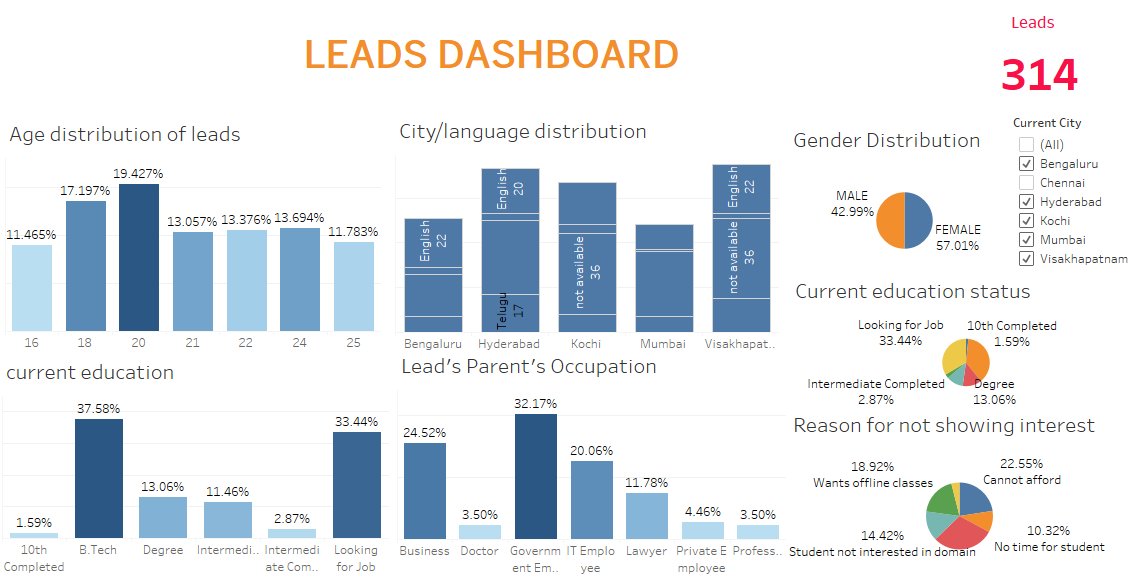

Layout of this report page (visuals, bound fields, positions):
{"tool":"tableau","page":{"name":"Dashboard 1","canvas":[1000,1000],"units":"permille","ordinal":0},"visuals":[{"type":"text","box":[7.1,13.5,844.2,177.4]},{"type":"worksheet","title":"Sheet 12","mark":"Automatic","box":[851.3,13.5,141.6,177.4]},{"type":"dashboard-object","box":[0,113.2,21.2,40.5]},{"type":"worksheet","title":"City/language distribution","mark":"Automatic","rows":["lead_id"],"cols":["current_city"],"box":[345.1,197.6,332.7,405.4]},{"type":"filter","title":"current education","param":"[federated.1svppnc1jsyctr11yhxaa12vuxx0].[none:current_city:nk]","box":[880.5,201,116.8,265.2]},{"type":"worksheet","title":"Age distribution of leads","mark":"Automatic","rows":["lead_id"],"cols":["age"],"box":[8,202.7,325.7,400.3]},{"type":"worksheet","title":"Gender Distribution","mark":"Pie","box":[686.7,212.8,200,263.5]},{"type":"worksheet","title":"Current education status","mark":"Pie","box":[688.5,467.9,302.7,233.1]},{"type":"worksheet","title":"Lead's Parent's Occupation","mark":"Automatic","rows":["lead_id"],"cols":["parent_occupation"],"box":[346.9,594.6,337.2,391.9]},{"type":"worksheet","title":"current education","mark":"Automatic","cols":["current_education"],"box":[5.3,604.7,335.4,380.1]},{"type":"worksheet","title":"Reason for not showing interest","mark":"Pie","box":[686.7,694.3,295.6,299]}]}

Visuals, with their boxes on the dashboard's canvas, which has no fixed pixel size, in thousandths of its width and height (x1, y1, x2, y2). These are canvas units, not pixel positions in the 1145x583 screenshot, which may show the page scaled, cropped or inside an application window:
text: <box>7,14,851,191</box>
"Sheet 12" worksheet: <box>851,14,993,191</box>
dashboard-object: <box>0,113,21,154</box>
"City/language distribution" worksheet: <box>345,198,678,603</box>
"current education" filter: <box>880,201,997,466</box>
"Age distribution of leads" worksheet: <box>8,203,334,603</box>
"Gender Distribution" worksheet (Pie marks): <box>687,213,887,476</box>
"Current education status" worksheet (Pie marks): <box>688,468,991,701</box>
"Lead's Parent's Occupation" worksheet: <box>347,595,684,986</box>
"current education" worksheet: <box>5,605,341,985</box>
"Reason for not showing interest" worksheet (Pie marks): <box>687,694,982,993</box>
